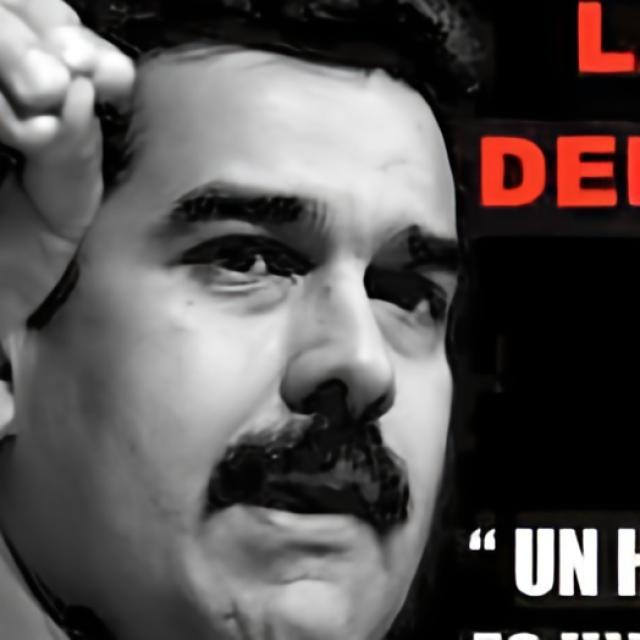fear: (91, 42, 468, 640)
